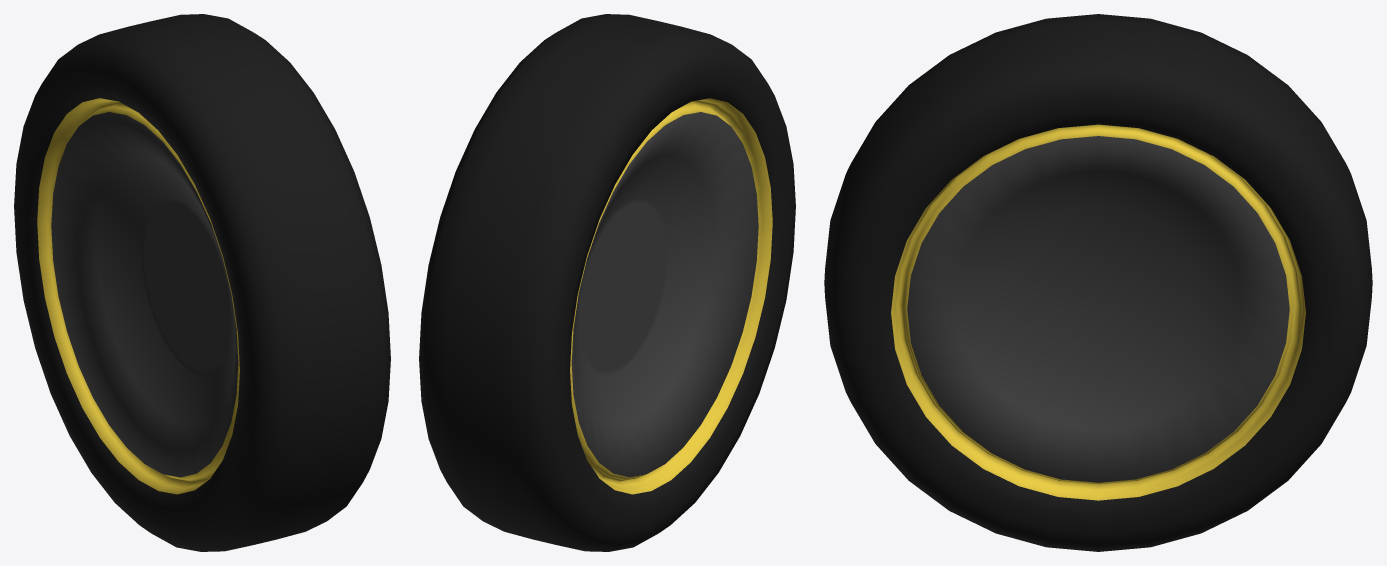
3 renders of one model, left to right at view 1: azimuth 30°, elevation 25°; view 2: azimuth 150°, elevation 25°; view 3: azimuth 270°, elevation 25°, orthographic. The views are drawn at different scales.
Visible parts, largest first — view 1: M_R; view 2: M_R; view 3: M_R.
Boxes of the visible parts, x1,y1,x2,y2 form: M_R: (14,14,390,551); M_R: (419,14,795,551); M_R: (824,14,1372,551).
Size of the model in its own units: 5.55 by 19.28 by 19.28.
